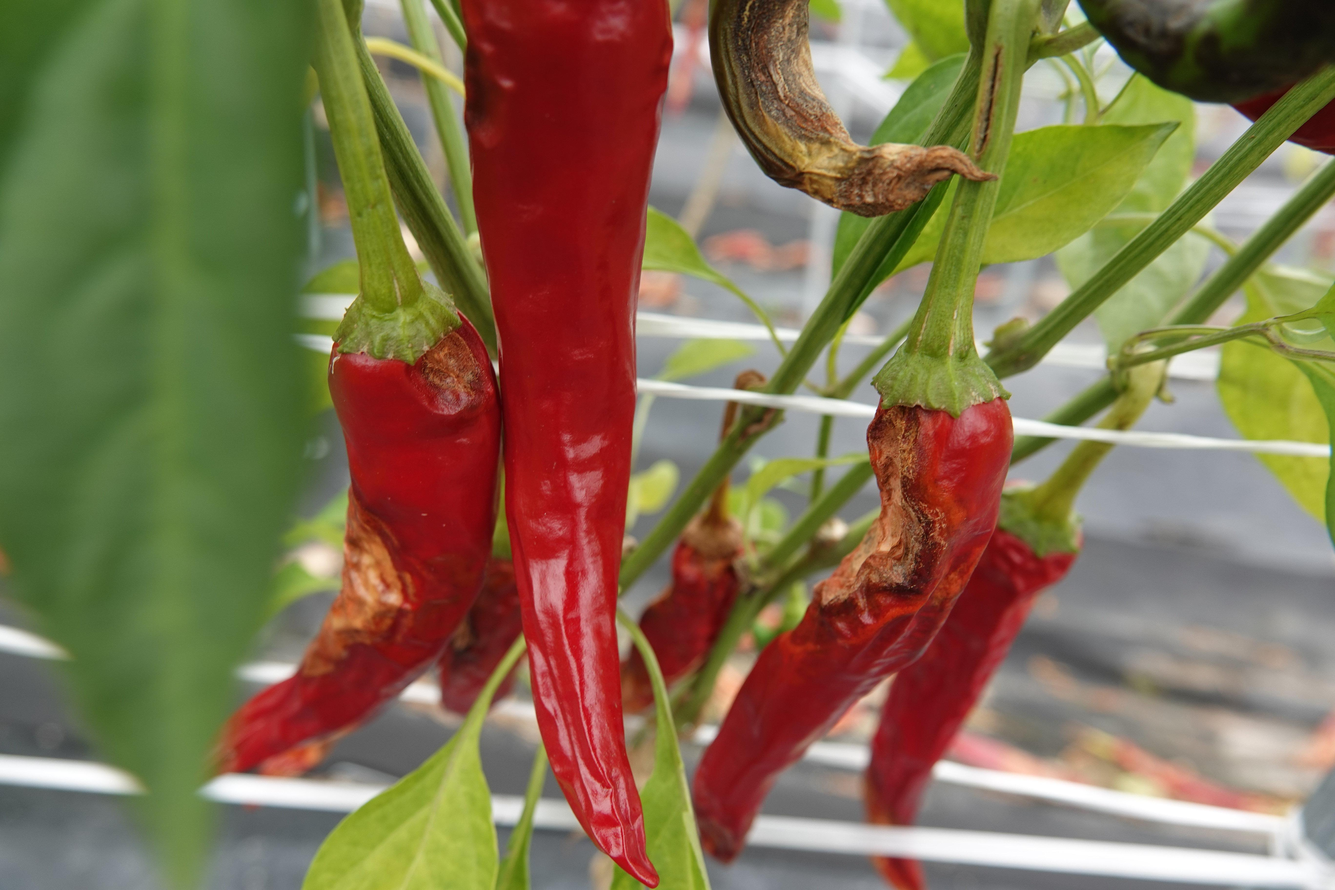Busuk Buah Antraknosa: (455, 1, 677, 886), (693, 328, 1015, 874), (202, 294, 504, 786), (712, 0, 1000, 227)
